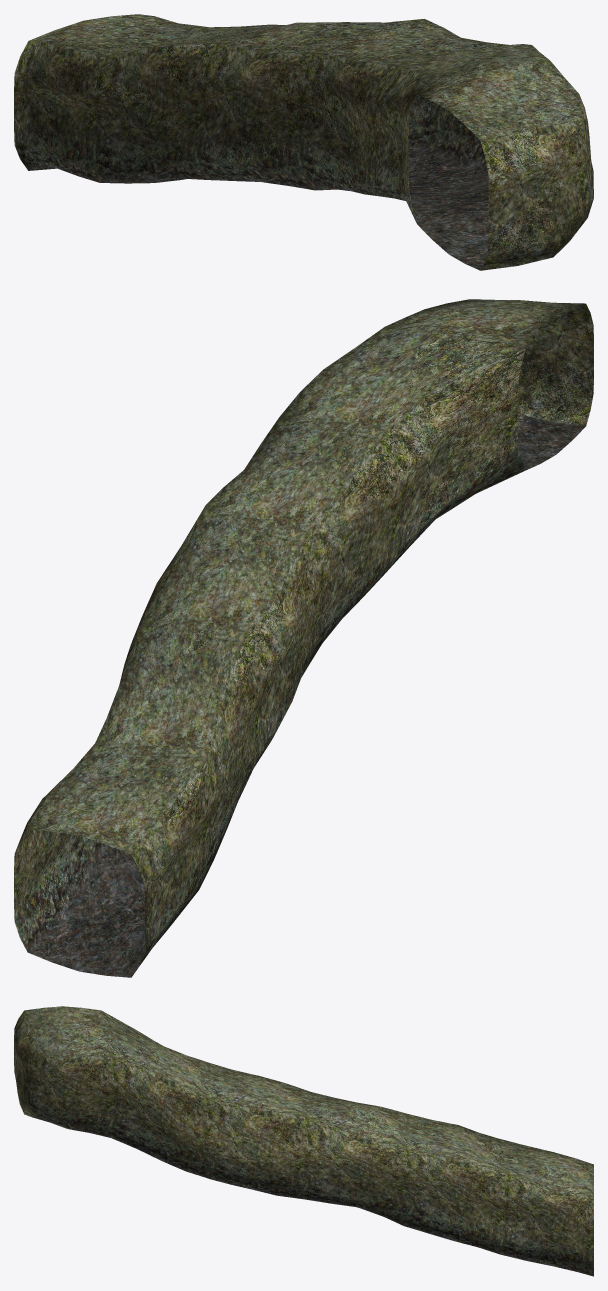
Rendered from thm_all_cave_flatland_s03_damprock_r19_r19.fbx.
The picture shows the model from 3 angles, top to bottom: view 1: azimuth 30°, elevation 25°; view 2: azimuth 150°, elevation 25°; view 3: azimuth 270°, elevation 25°; orthographic projection. The views are drawn at different scales.
Visible parts, largest first — view 1: mesh_node; view 2: mesh_node; view 3: mesh_node.
Boxes of the visible parts, x1,y1,x2,y2 form: mesh_node: (14,14,593,270); mesh_node: (14,299,593,977); mesh_node: (14,1006,593,1276).
Size of the model in its own units: 11.49 by 21.45 by 47.48.
